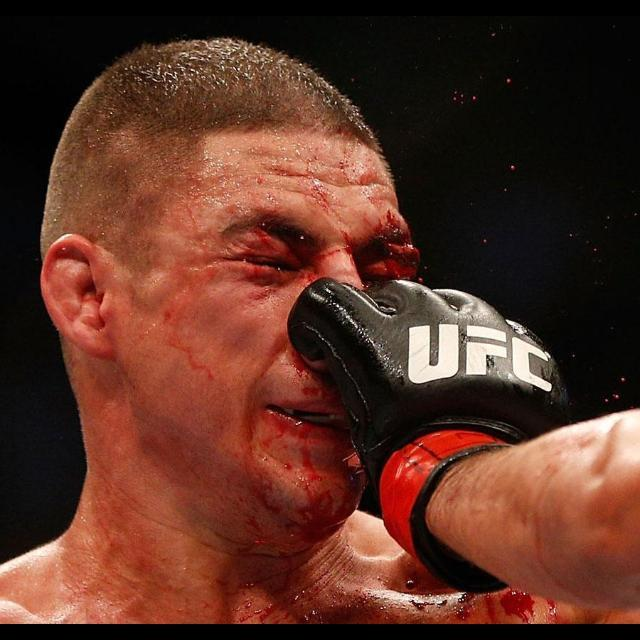blood: (149, 129, 612, 624)
